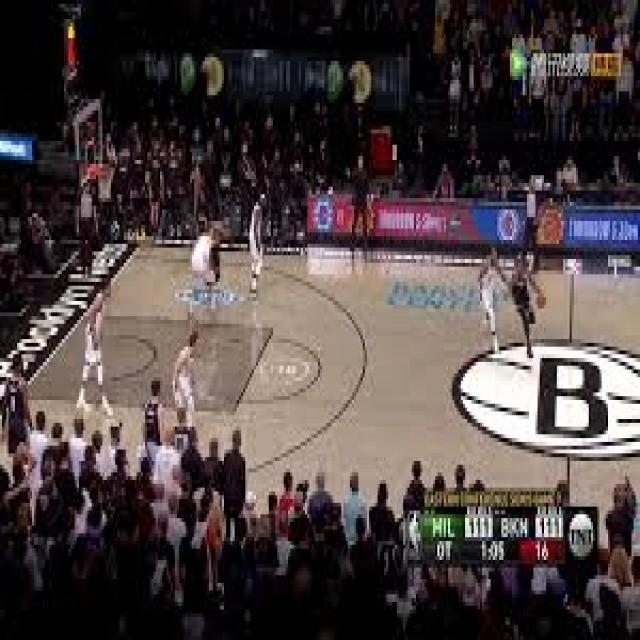rim: (536, 290, 546, 308)
